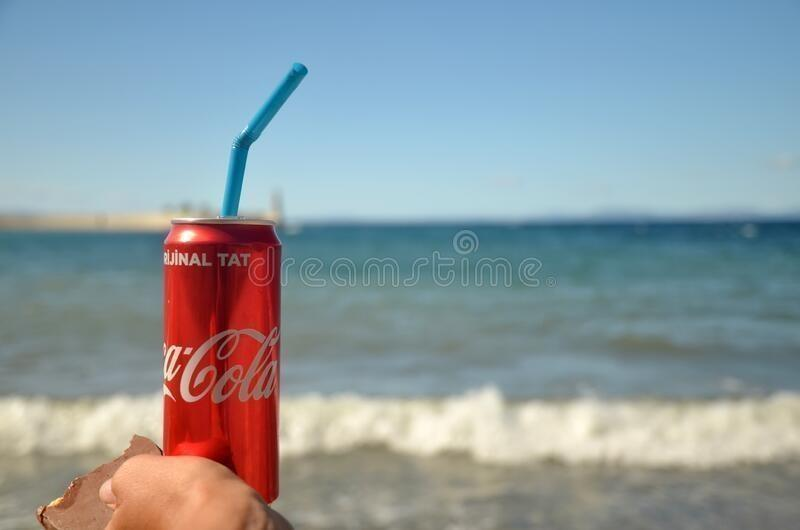tin can: (160, 212, 284, 504)
